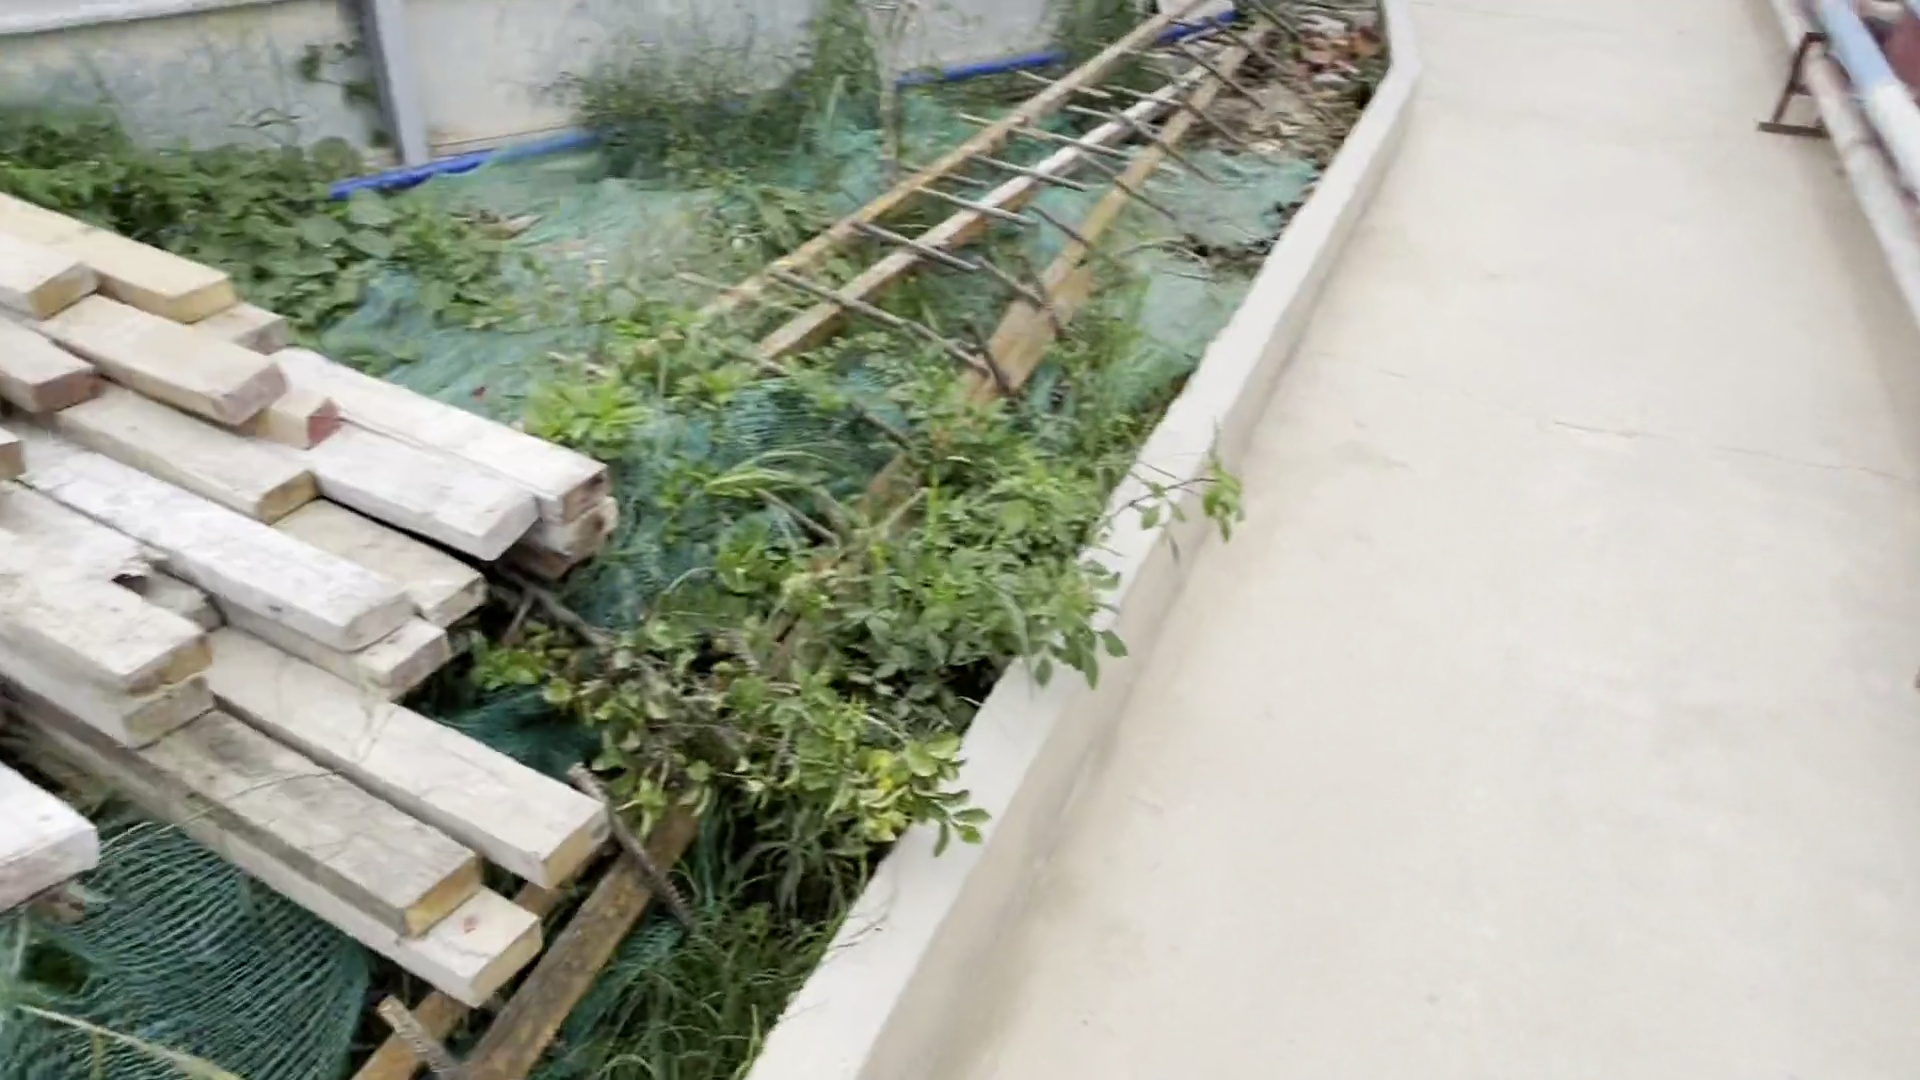wood: (3, 164, 638, 993)
